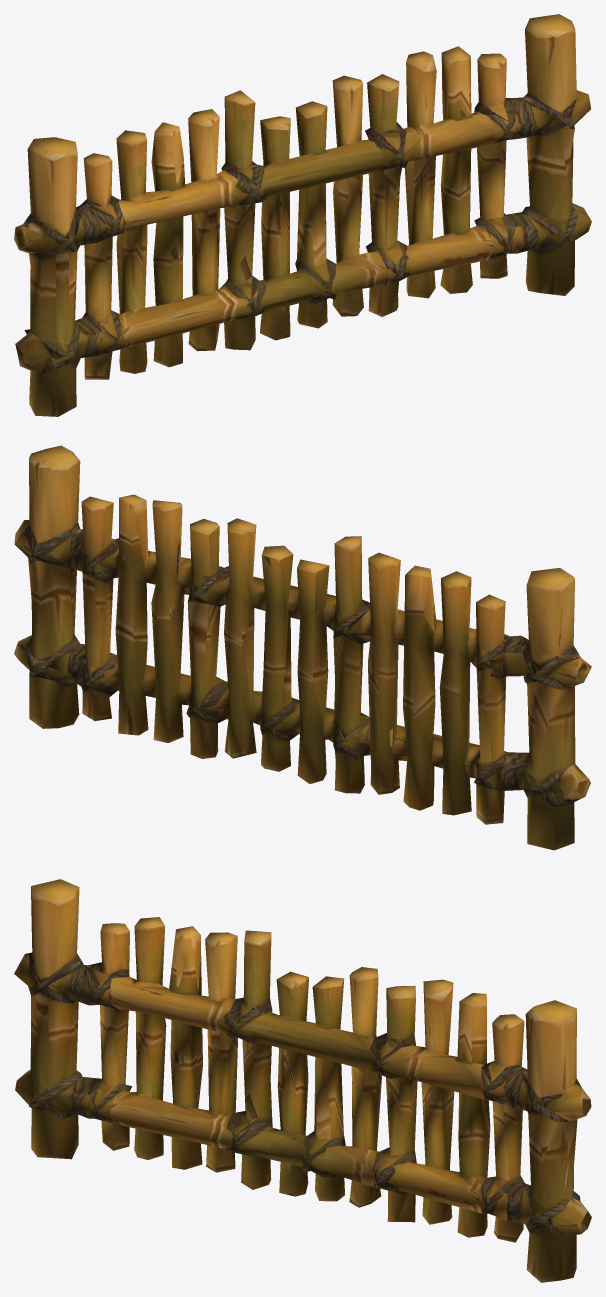
Rendered from fence.glb.
3 renders of one model, top to bottom at view 1: azimuth 30°, elevation 25°; view 2: azimuth 150°, elevation 25°; view 3: azimuth 330°, elevation 25°, orthographic.
Visible parts, largest first — view 1: fence; view 2: fence; view 3: fence.
Boxes of the visible parts, box(x1,y1,x2,y2) form: fence: box(14, 14, 591, 416); fence: box(14, 445, 591, 850); fence: box(14, 879, 591, 1282).
Size of the model in its own units: 0.9792 by 0.4381 by 0.11.
Materials: 1 (1 with a texture image).
